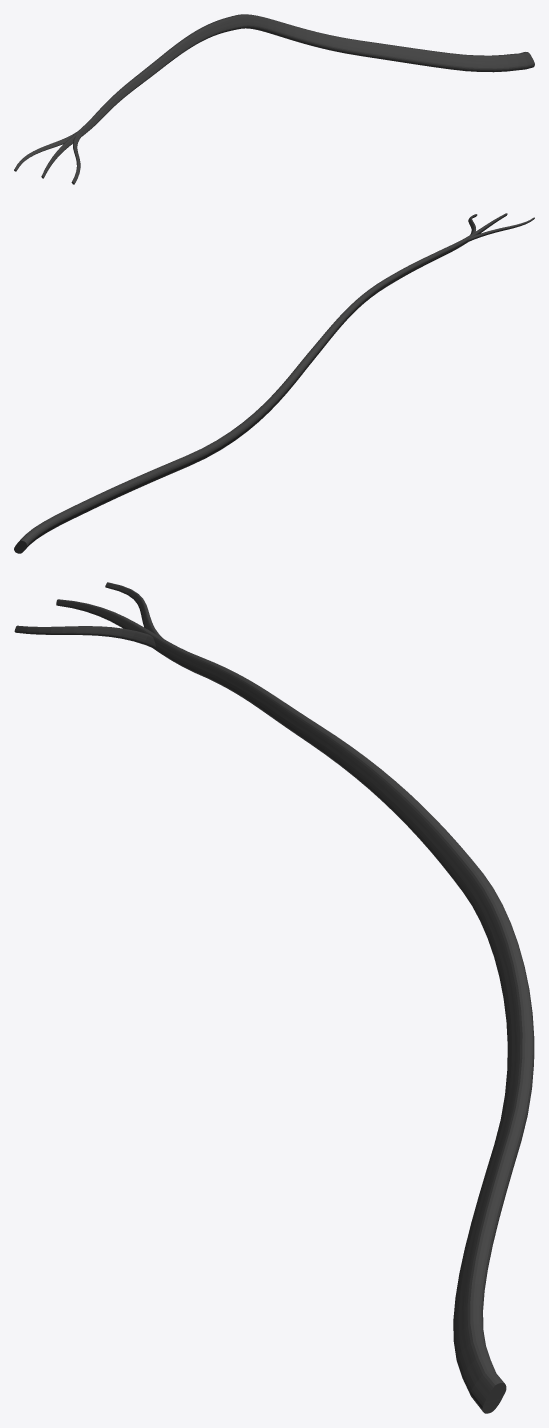
Rendered from N_5_trigeminus_ophthalmic_lacrimal.glb.
3 renders of one model, top to bottom at view 1: azimuth 30°, elevation 25°; view 2: azimuth 210°, elevation 25°; view 3: azimuth 270°, elevation 25°, orthographic. The views are drawn at different scales.
Visible parts, largest first — view 1: N_5_trigeminus_ophthalmic_lacrimal; view 2: N_5_trigeminus_ophthalmic_lacrimal; view 3: N_5_trigeminus_ophthalmic_lacrimal.
Boxes of the visible parts, <box> form: N_5_trigeminus_ophthalmic_lacrimal: <box>14,14,534,184</box>; N_5_trigeminus_ophthalmic_lacrimal: <box>14,213,534,553</box>; N_5_trigeminus_ophthalmic_lacrimal: <box>14,582,534,1413</box>.
Bounding box in the file's own units: 0.0196 × 0.00439 × 0.00718.
Materials: 1 (1 with a texture image).
